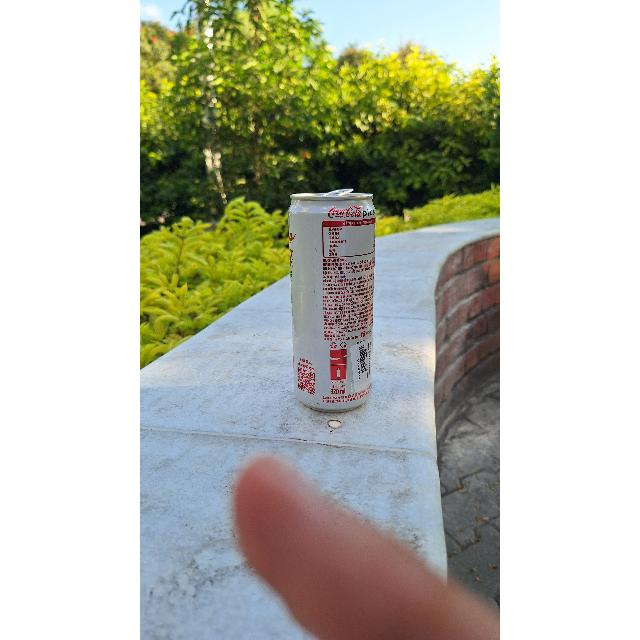Coca Cola Plus: (286, 186, 376, 414)
